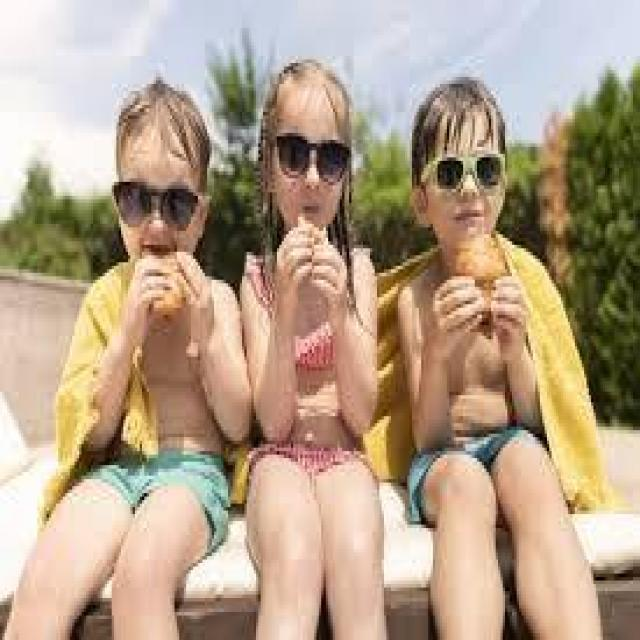person: (377, 80, 596, 636), (233, 39, 391, 636), (66, 74, 230, 636)
